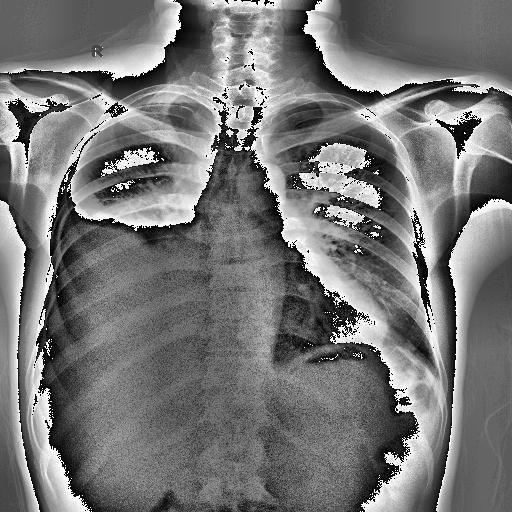10- Pleural effusion: (55, 198, 200, 376), (57, 195, 193, 357), (54, 198, 204, 339)
11- Pleural thickening: (122, 90, 208, 106), (330, 98, 374, 122), (142, 97, 196, 105)
3- Cardiomegaly: (180, 270, 390, 358)
